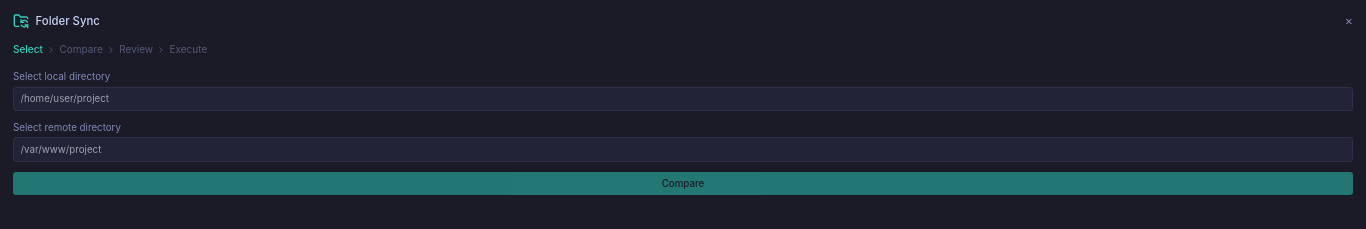
Test: FolderSyncWizard › executes the sync and shows results
The image size is (1366, 229).
In the field with placeholder "/home/user/project": (683, 99) [13,86,1353,111], type "/local/project"
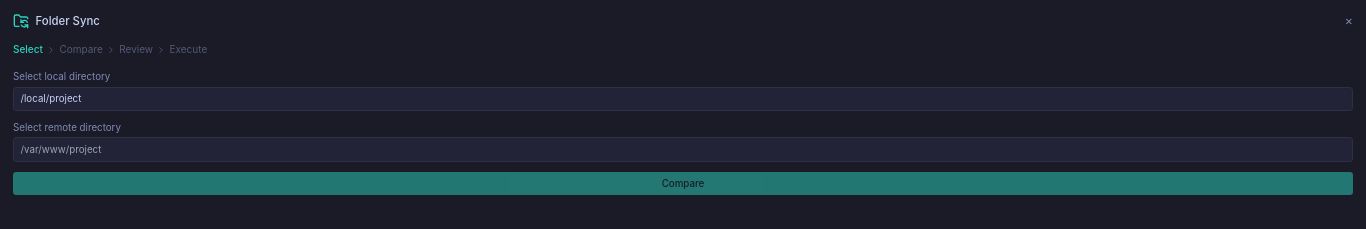
In the field with placeholder "/var/www/project": (683, 150) [13,137,1353,162], type "/remote/project"
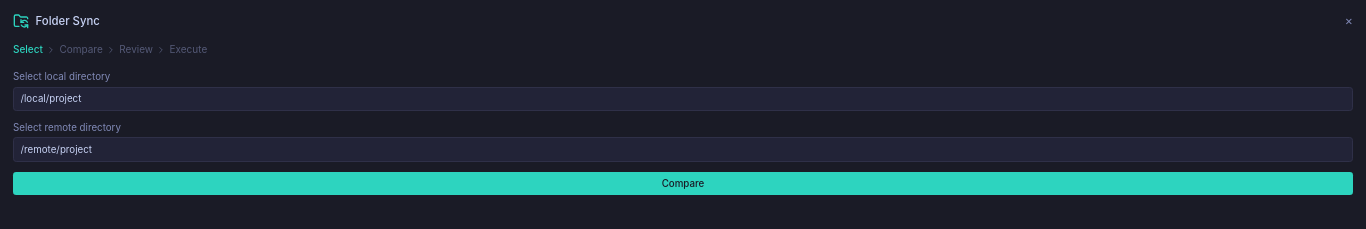
Click the button "Compare": (683, 183) [13,172,1353,195]
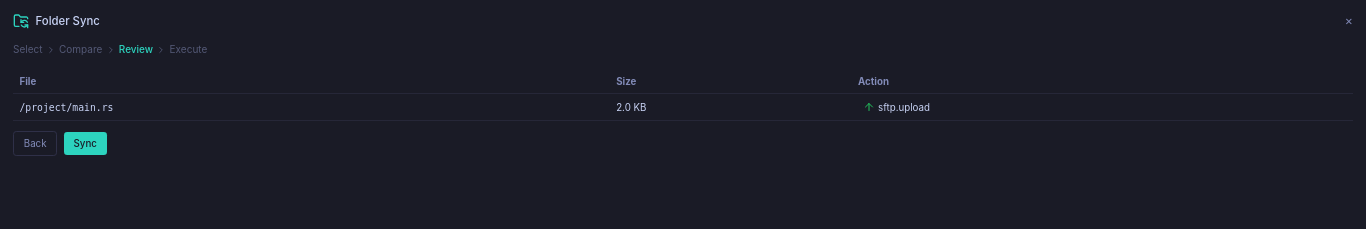
Now the text "/project/main.rs" is shown, box [13,94,610,120]
Click the button "Sync": (85, 143) [64,132,107,155]
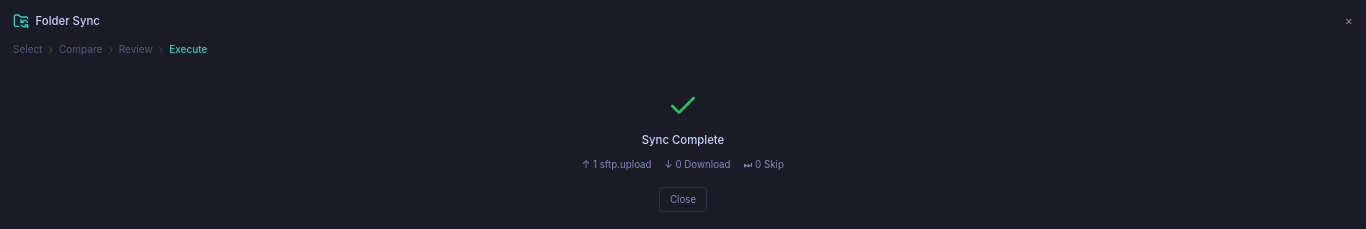
Now the heading "Sync Complete" is shown, box [642,132,724,148]
